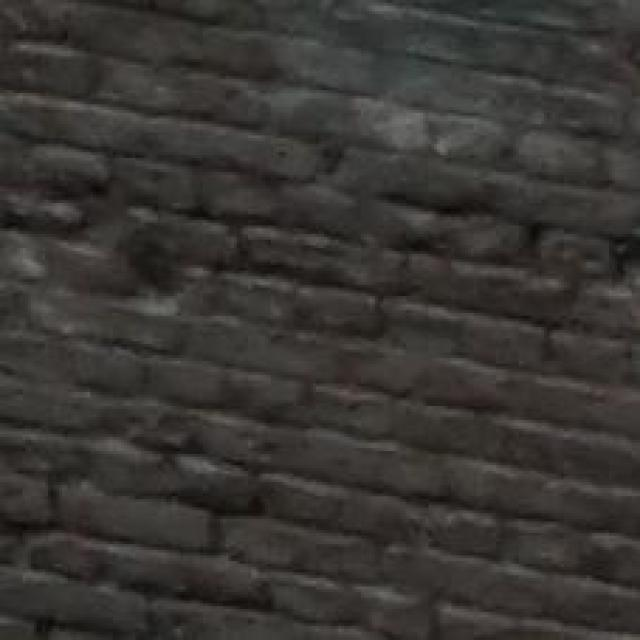Crack: (1, 67, 640, 365)
